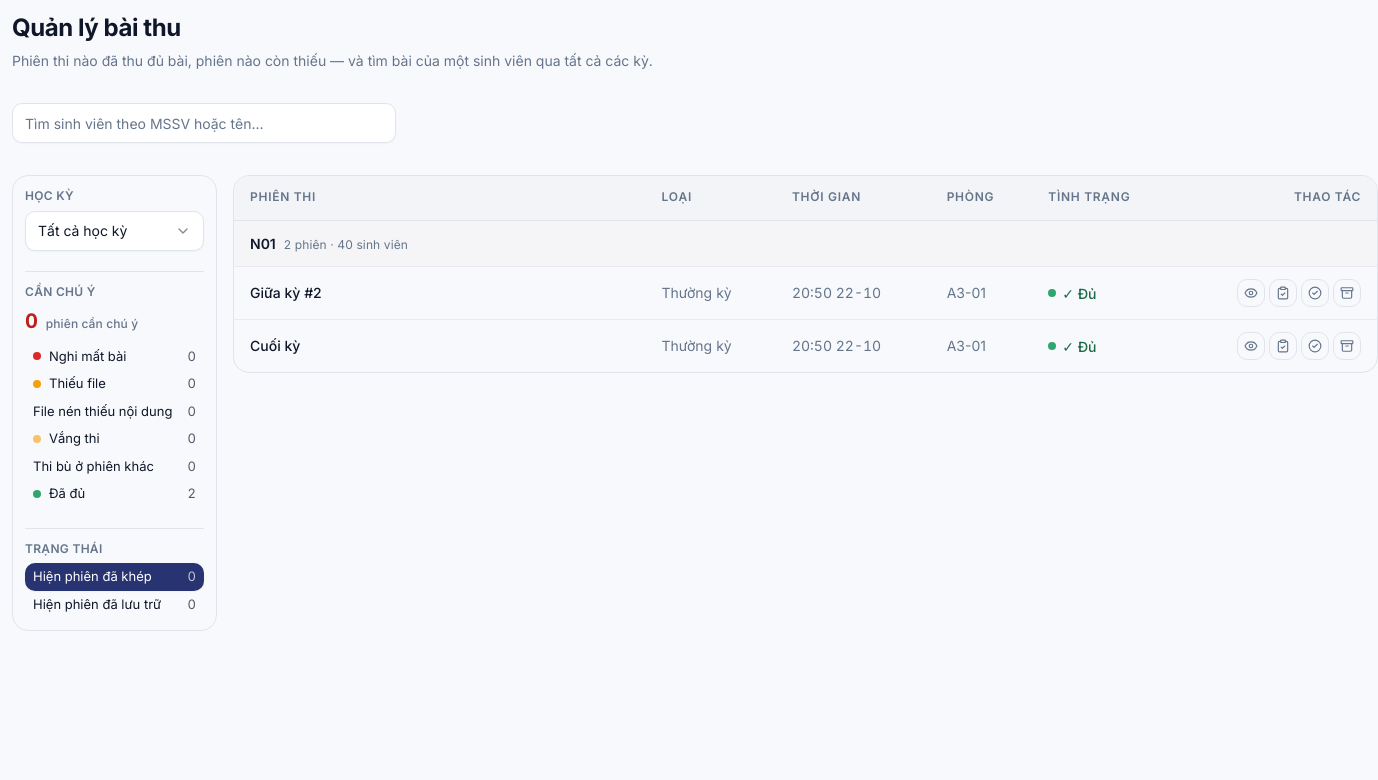
SubmissionsPage — search theo sinh viên › gõ từ khoá thì thu hẹp về những phiên có sinh viên đó
Type "21520123" into the field labelled "Tìm sinh viên theo MSSV hoặc tên" at (204, 123), box 12,103 -> 396,143
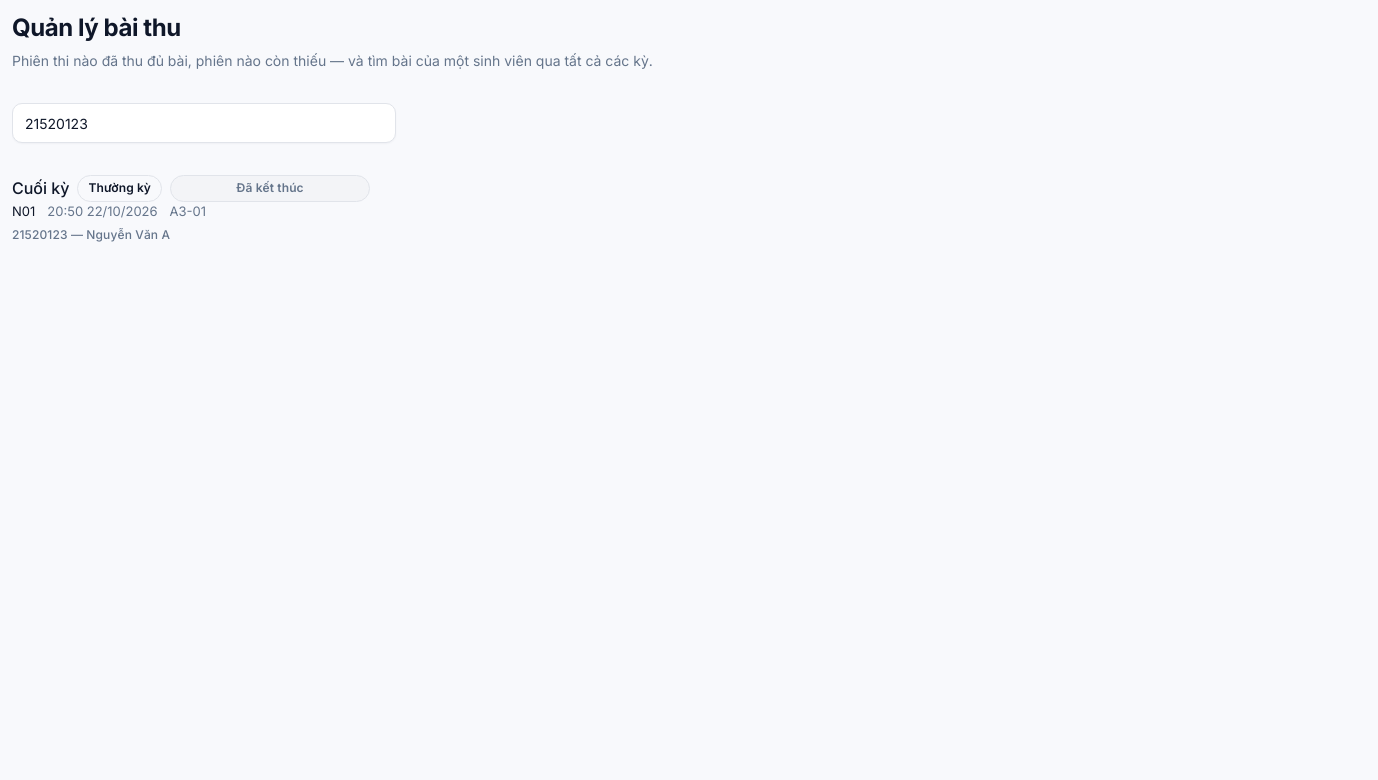
Now the text "21520123 — Nguyễn Văn A" is shown, box 12,227 -> 170,242
Now the text "Giữa kỳ #2" is gone
